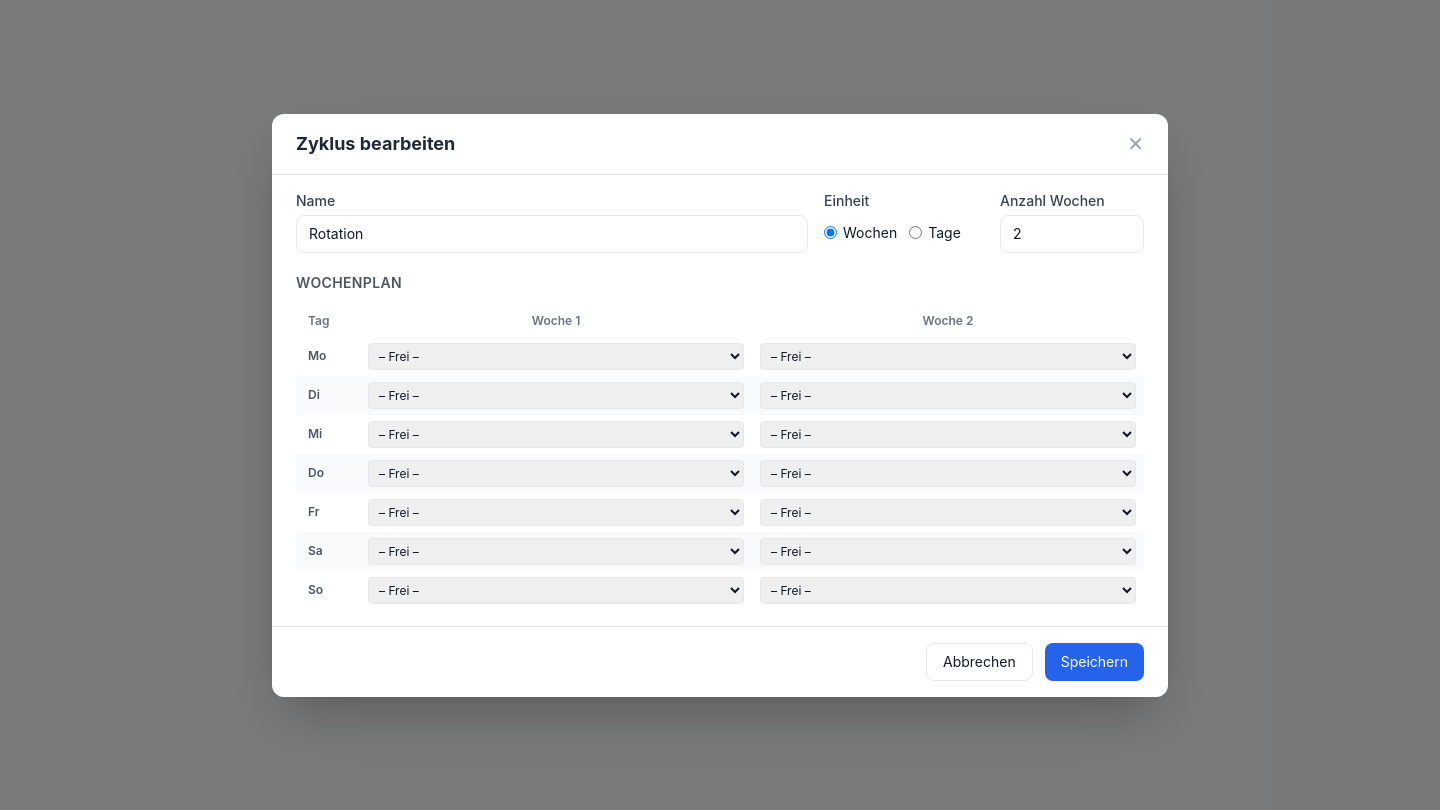
Scenario: Schichtmodell — Tages-Einheit › Umschalter auf Tage: Umfang 2 Wochen → 14 Tage, Raster zeigt Tages-Blöcke
The image size is (1440, 810).
Click the radio button labelled "Tage" at point(916, 232), box left=909, top=226, right=922, bottom=239
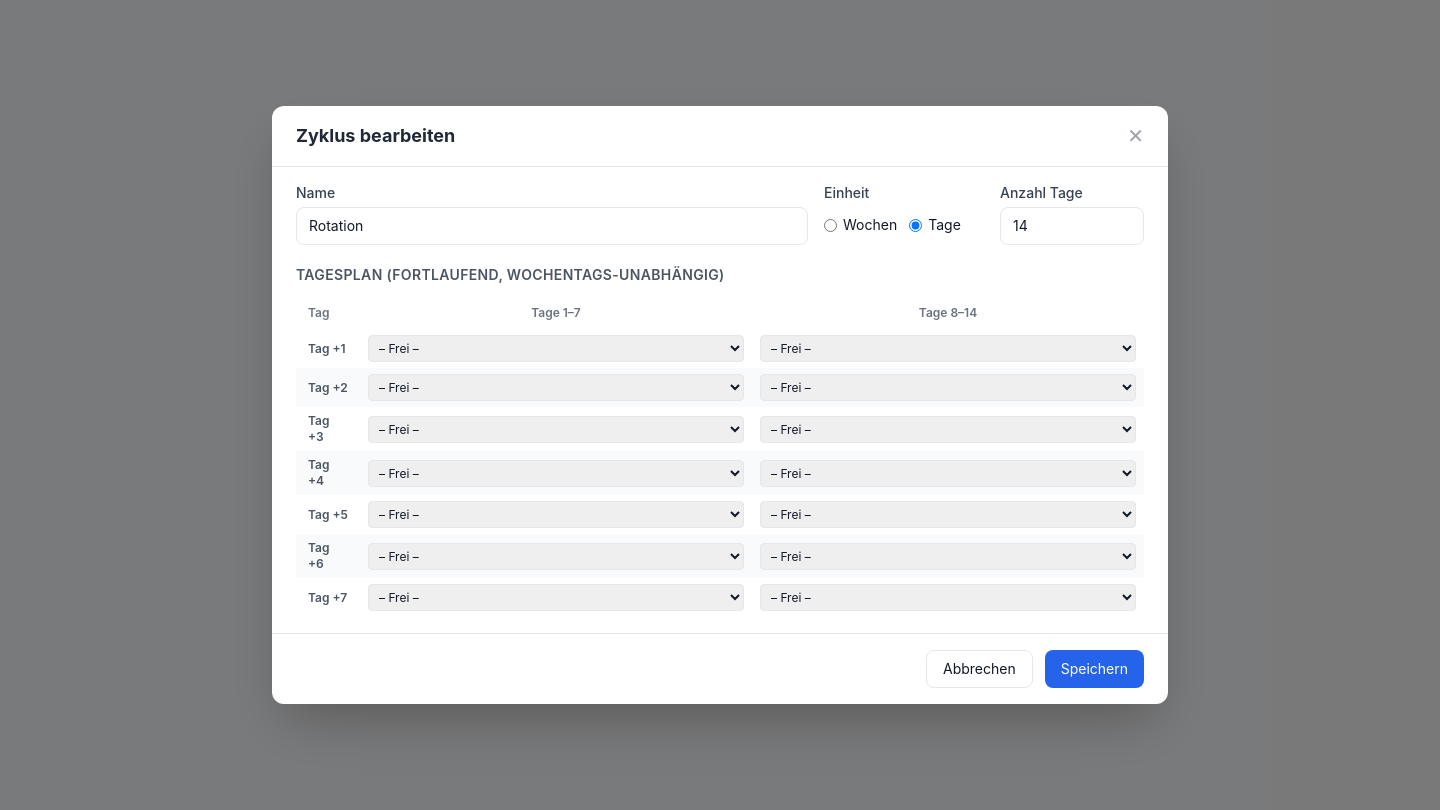
Expected: the number field holds "14", left=1000, top=207, right=1144, bottom=245
Expected: the column heading "Tage 1–7" is shown, left=360, top=297, right=752, bottom=329
Expected: the column heading "Tage 8–14" is shown, left=752, top=297, right=1144, bottom=329
